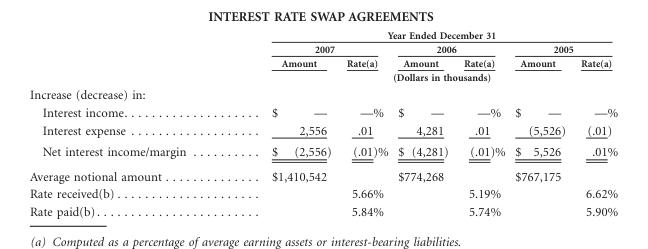table: (28, 29, 617, 218)
table column: (28, 29, 228, 218), (228, 29, 338, 218), (392, 29, 455, 218), (509, 29, 572, 218), (338, 29, 392, 218), (455, 29, 509, 218), (572, 29, 617, 218)
table column header: (28, 29, 617, 84)
table projected row header: (28, 84, 617, 103)
table row: (28, 140, 617, 163), (28, 163, 617, 184), (28, 84, 617, 103), (28, 121, 617, 140), (28, 103, 617, 121), (28, 184, 617, 202), (28, 202, 617, 218), (28, 69, 617, 84), (28, 41, 617, 55), (28, 55, 617, 69), (28, 29, 617, 41)
table spanning cell: (228, 69, 617, 84), (228, 29, 617, 41), (228, 41, 392, 55), (392, 41, 509, 55), (509, 41, 617, 55)
